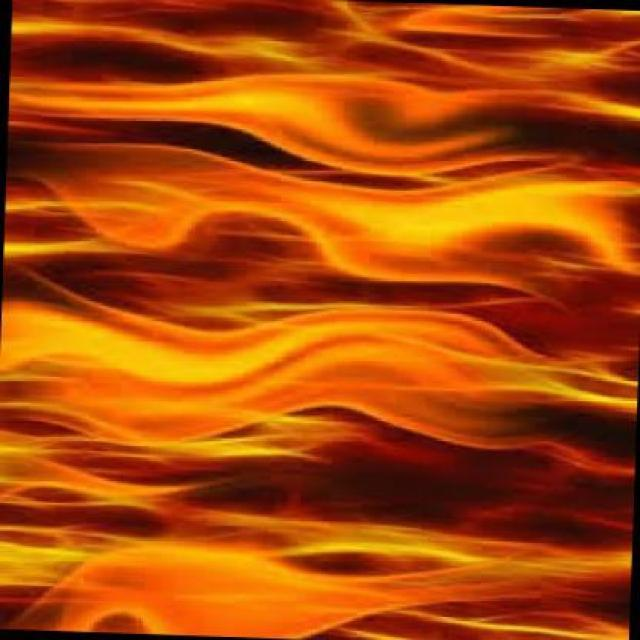Fire: (10, 0, 623, 640)
